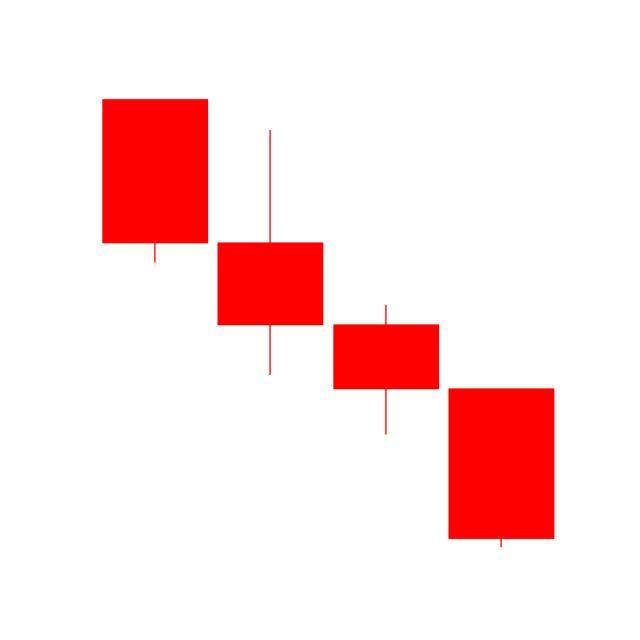Marubozu: (444, 387, 560, 550)
